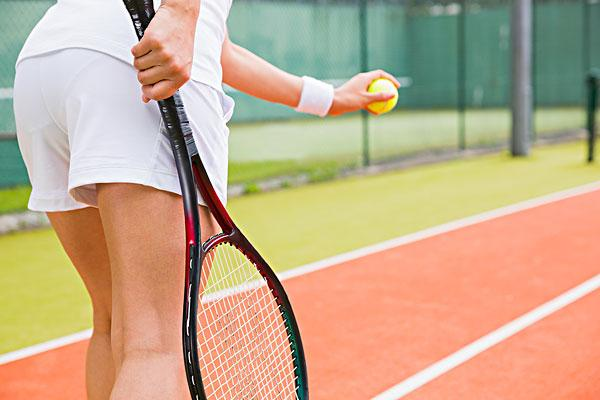no-phone: (128, 4, 209, 164)
